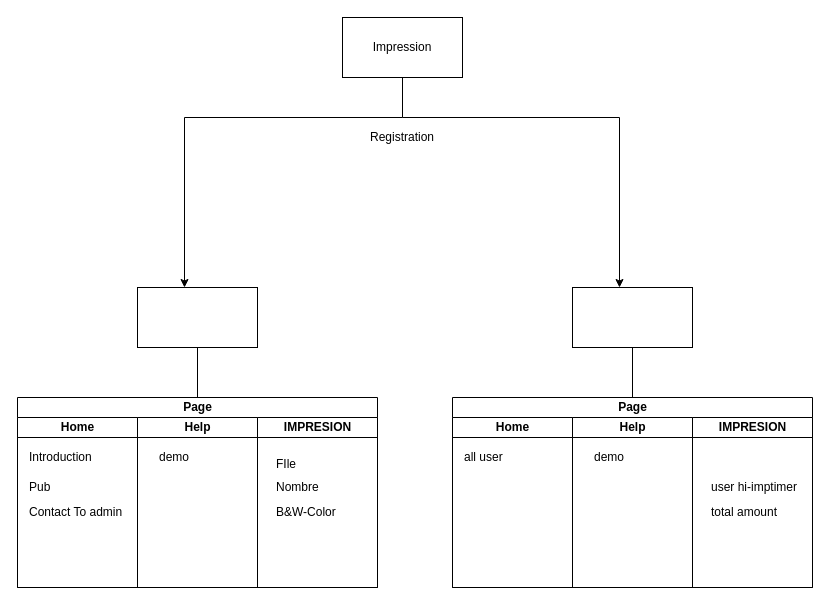
This 830x605 diagram has some shape labels left out. Each missing label, with the centre of its shape:
Admin: the point at 632,317
Client: the point at 197,317
